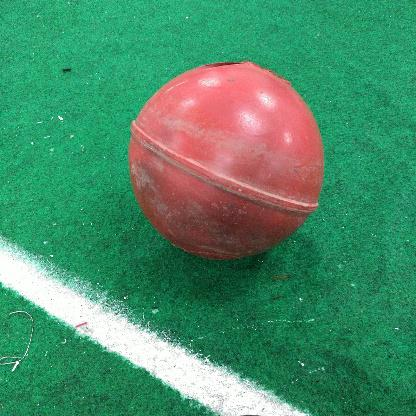red_buoy: (130, 63, 322, 269)
